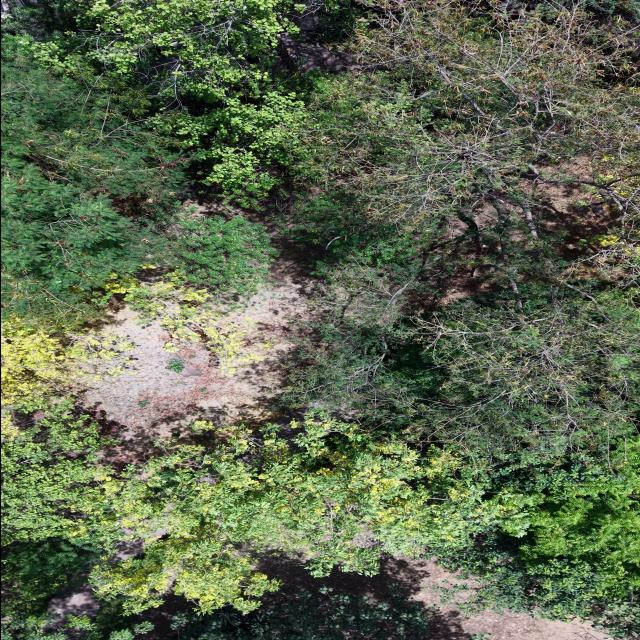DRY_AREA: (84, 192, 314, 462), (87, 212, 323, 462), (84, 238, 314, 463), (85, 237, 313, 463), (86, 282, 309, 463), (85, 282, 309, 462), (86, 283, 308, 463), (262, 555, 605, 639), (471, 157, 623, 278), (397, 556, 606, 639), (280, 33, 358, 71), (45, 584, 99, 628)
VEGETATION_TREE: (1, 0, 639, 639), (284, 2, 638, 616), (287, 1, 638, 457), (5, 415, 638, 636), (1, 2, 306, 327), (92, 416, 532, 611), (289, 0, 638, 231), (281, 241, 639, 459), (23, 0, 307, 199), (1, 37, 185, 327), (393, 282, 639, 458), (429, 447, 639, 639), (1, 588, 440, 639), (1, 402, 119, 543), (171, 589, 434, 639), (1, 319, 134, 406), (177, 214, 276, 294), (1, 538, 94, 620), (1, 610, 154, 639)
